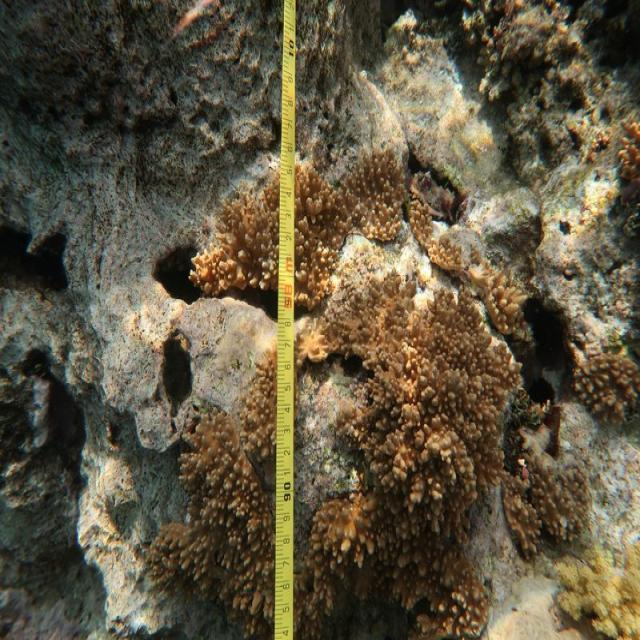Healthy Coral: (307, 304, 511, 640), (169, 407, 292, 637), (199, 176, 369, 288), (573, 330, 640, 451), (407, 164, 469, 290), (503, 457, 597, 539), (345, 143, 406, 253)
